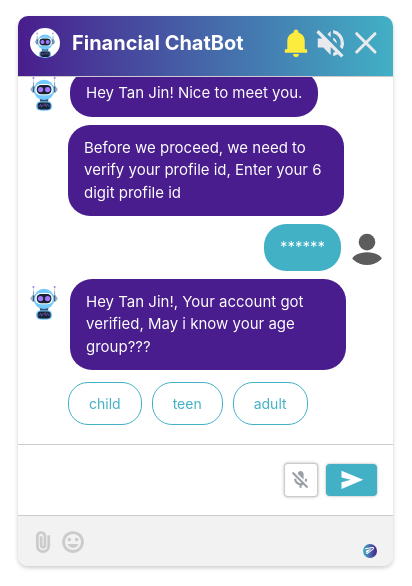
Test: Chat Bot Test Suite › Clicks an option and verifies bot reply
This screenshot has width=412, height=586.
(page scrolled)
Click the text "teen". click: (188, 404)
box: [152,382,223,425]
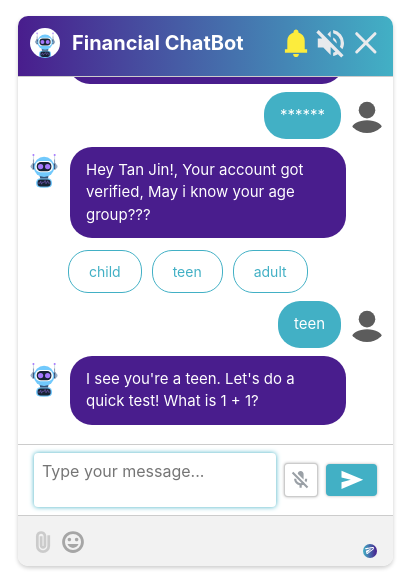
Result: the text "I see you're a teen." is shown at [86,369,299,411]
